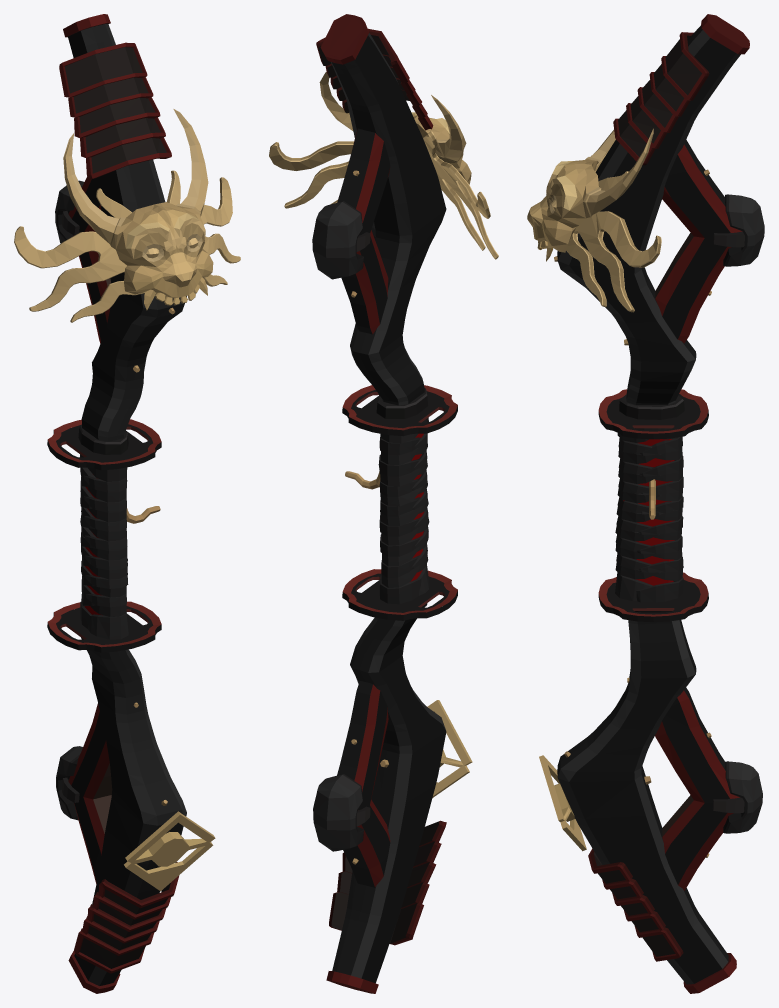
The model's file is largeBowSamuraiHandle.glb.
3 renders of one model, left to right at view 1: azimuth 30°, elevation 25°; view 2: azimuth 150°, elevation 25°; view 3: azimuth 270°, elevation 25°, orthographic.
Parts seen in each view (by area): view 1: largeBowSamuraiHandle; view 2: largeBowSamuraiHandle; view 3: largeBowSamuraiHandle.
Part boxes in pixels (x1=…): largeBowSamuraiHandle: x1=14, y1=14, x2=240, y2=993; largeBowSamuraiHandle: x1=269, y1=14, x2=498, y2=993; largeBowSamuraiHandle: x1=527, y1=14, x2=764, y2=993.
Bounding box in the file's own units: 0.346 × 1.48 × 0.3283.
